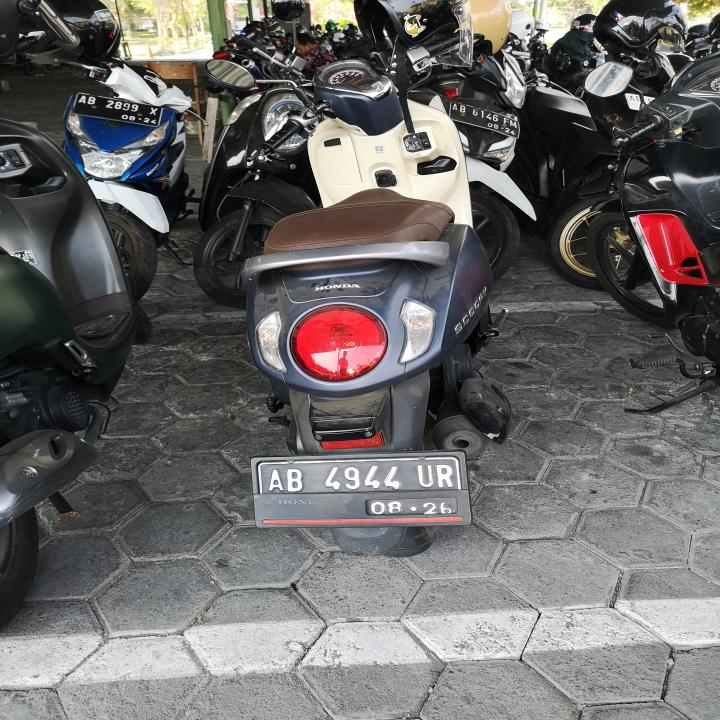plate: (248, 444, 477, 532), (70, 92, 164, 127), (448, 99, 521, 138)
